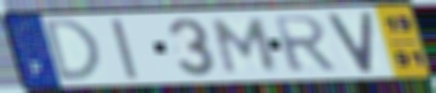3: (165, 16, 217, 78)
D: (43, 17, 106, 85)
I: (106, 17, 142, 82)
M: (210, 17, 281, 76)
R: (270, 14, 340, 75)
V: (324, 9, 377, 75)
